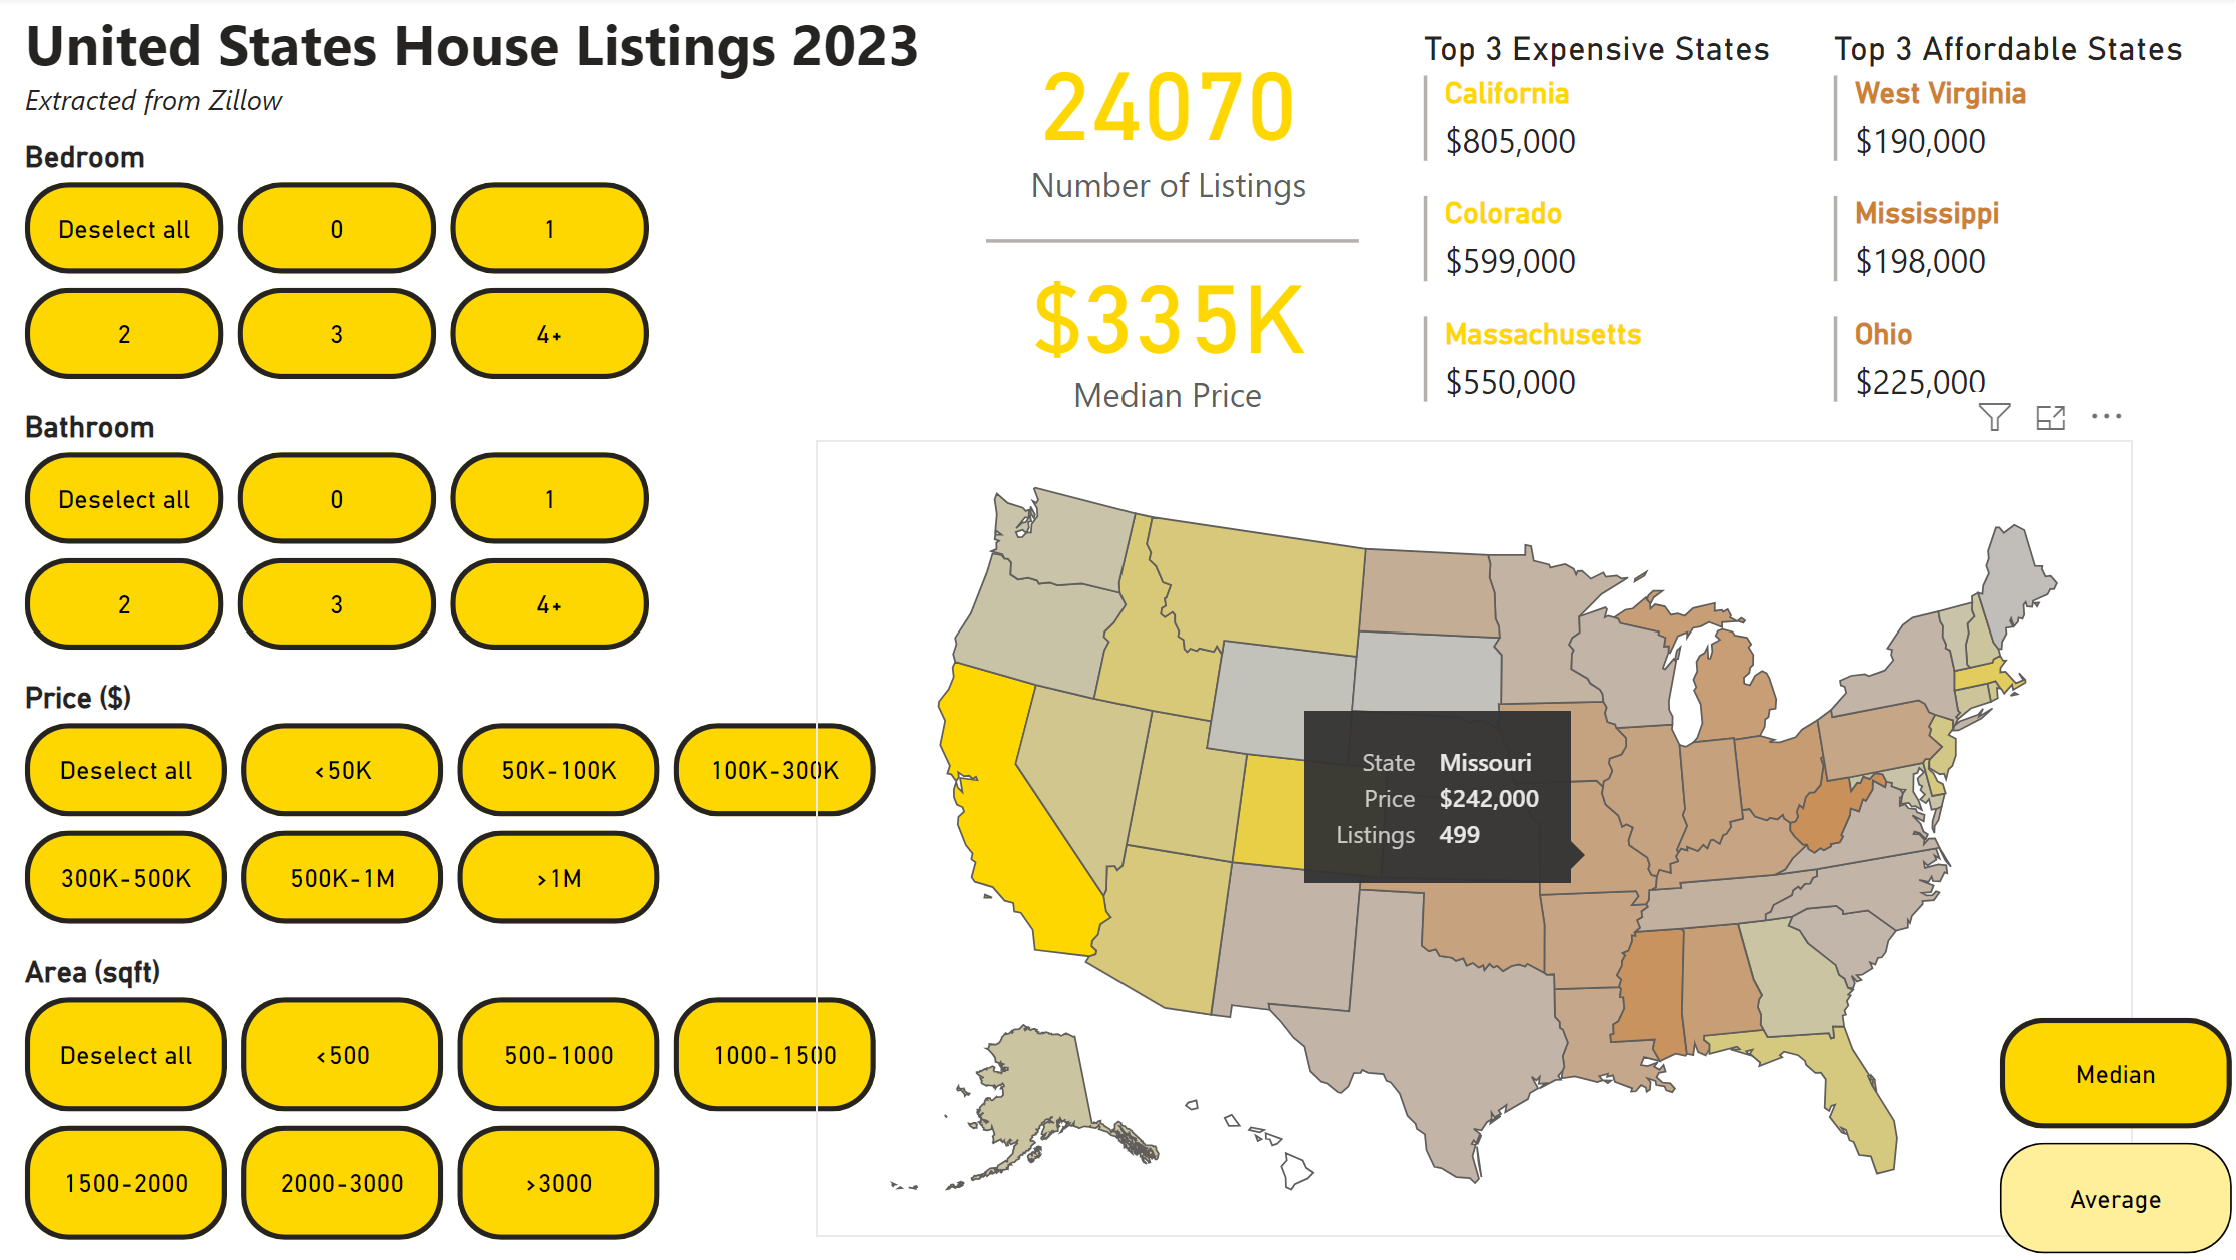

The page's visual inventory and layout, read from the dashboard file:
{"tool":"powerbi","page":{"name":"Main","canvas":[1280,720],"ordinal":0},"visuals":[{"type":"multiRowCard","title":"Top 3 Expensive States","fields":{"Values":["cleaned_df.State Name","cleaned_df.Avg/Med Price"]},"box":[810,18.6,214.3,240],"z":0},{"type":"card","fields":{"Values":["cleaned_df.Avg/Med Price"]},"box":[562.4,123.8,215.7,127.5],"z":0,"group":"g3"},{"type":"multiRowCard","title":"Top 3 Affordable States","fields":{"Values":["cleaned_df.State Name","cleaned_df.Avg/Med Price"]},"box":[1042.9,18.6,214.3,240],"z":1000},{"type":"card","fields":{"Values":["cleaned_df.Avg/Med Title"]},"box":[562.4,212.7,214.8,31.7],"z":1000,"group":"g1"},{"type":"advancedSlicerVisual","title":"Price ($)","fields":{"Values":["cleaned_df.Price Class"]},"box":[14.8,389,494.8,143.3],"z":2000},{"type":"advancedSlicerVisual","fields":{"Values":["cleaned_df.Bedroom Class"]},"box":[14.3,81.4,365.7,142.9],"z":3000},{"type":"advancedSlicerVisual","fields":{"Values":["cleaned_df.Bathroom Class"]},"box":[14.3,235.7,365.7,142.9],"z":4000},{"type":"advancedSlicerVisual","fields":{"Values":["cleaned_df.Area Class"]},"box":[14.8,544.8,494.8,168.3],"z":5000},{"type":"card","fields":{"Values":["CountNonNull(cleaned_df.Price)"]},"box":[562.4,4.3,215.7,127.1],"z":6000,"group":"g2"},{"type":"shapeMap","fields":{"Value":["cleaned_df.Avg/Med Price"],"Category":["cleaned_df.State Name"]},"box":[470,252.9,748.6,452.9],"z":6000},{"type":"textbox","box":[14.3,0,532.9,85.7],"z":7000},{"type":"group","id":"g1","title":"Group 1","box":[562.4,61.1,215.7,190.2],"z":8000,"group":"g2"},{"type":"advancedSlicerVisual","fields":{"Values":["Calculation Methods.Cal Method"]},"box":[1137.1,575.7,142.9,144.3],"z":8000},{"type":"group","id":"g2","title":"Group 3","box":[562.4,4.3,215.7,246.9],"z":9000},{"type":"group","id":"g3","title":"Group 2","box":[562.4,61.1,215.7,190.2],"z":11001,"group":"g1"},{"type":"shape","box":[566.7,61.1,211.4,155.7],"z":11001,"group":"g3"}]}

Visuals, with their boxes in screenshot pixels (x1, y1, x2, y2), scaled from the page's 1280x720 canvas onto the 2236x1260 screenshot:
"Top 3 Expensive States" multiRowCard: region(1415, 33, 1789, 453)
card - cleaned_df.Avg/Med Price: region(982, 217, 1359, 440)
"Top 3 Affordable States" multiRowCard: region(1822, 33, 2196, 453)
card - cleaned_df.Avg/Med Title: region(982, 372, 1358, 428)
"Price ($)" advancedSlicerVisual: region(26, 681, 890, 932)
advancedSlicerVisual - cleaned_df.Bedroom Class: region(25, 142, 664, 393)
advancedSlicerVisual - cleaned_df.Bathroom Class: region(25, 412, 664, 663)
advancedSlicerVisual - cleaned_df.Area Class: region(26, 953, 890, 1248)
card - CountNonNull(cleaned_df.Price): region(982, 8, 1359, 230)
shapeMap - cleaned_df.Avg/Med Price x cleaned_df.State Name: region(821, 443, 2129, 1235)
textbox: region(25, 0, 956, 150)
"Group 1" group: region(982, 107, 1359, 440)
advancedSlicerVisual - Calculation Methods.Cal Method: region(1986, 1007, 2235, 1259)
"Group 3" group: region(982, 8, 1359, 440)
"Group 2" group: region(982, 107, 1359, 440)
shape: region(990, 107, 1359, 379)
